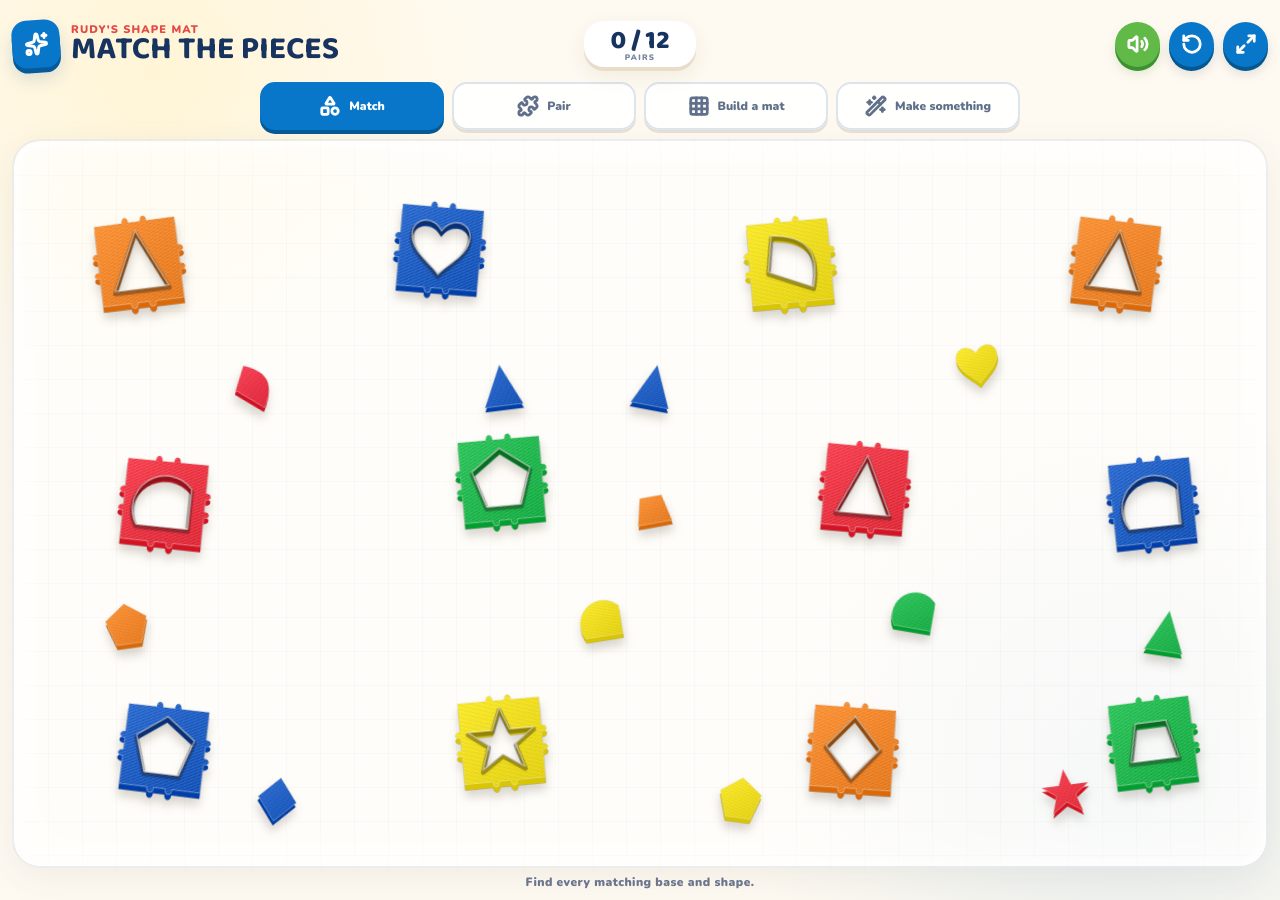
activity navigation › opens Build a Mat with twelve completed tiles and twelve targets
Step 1. Click the button "Build a mat" → (736, 106), box [644, 82, 828, 130]
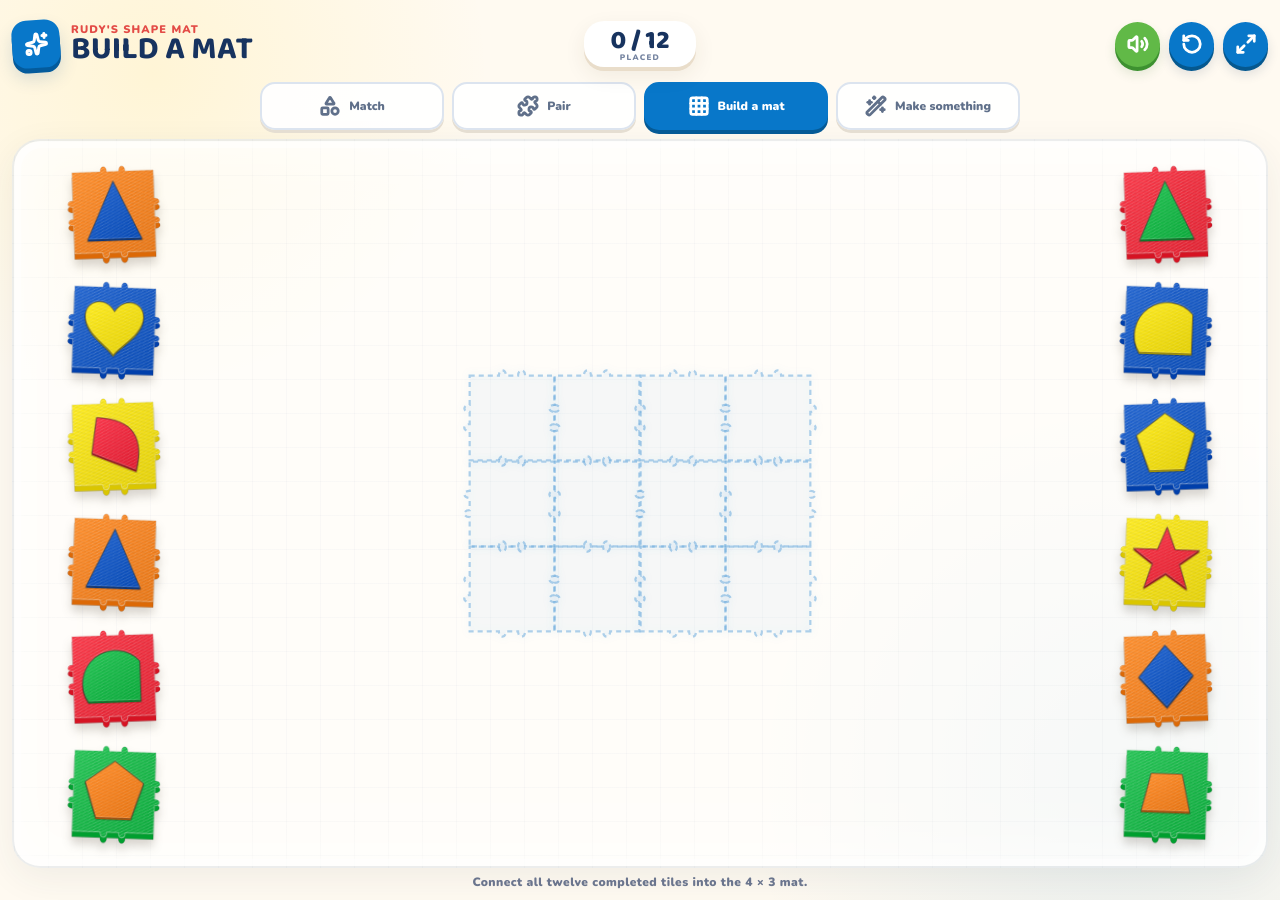
Expected: the heading "Build a mat" is shown, [71, 34, 253, 66]
Expected: the number of buttons named "Completed" is 12
Expected: the number of elements with class "target-slot" is 12
